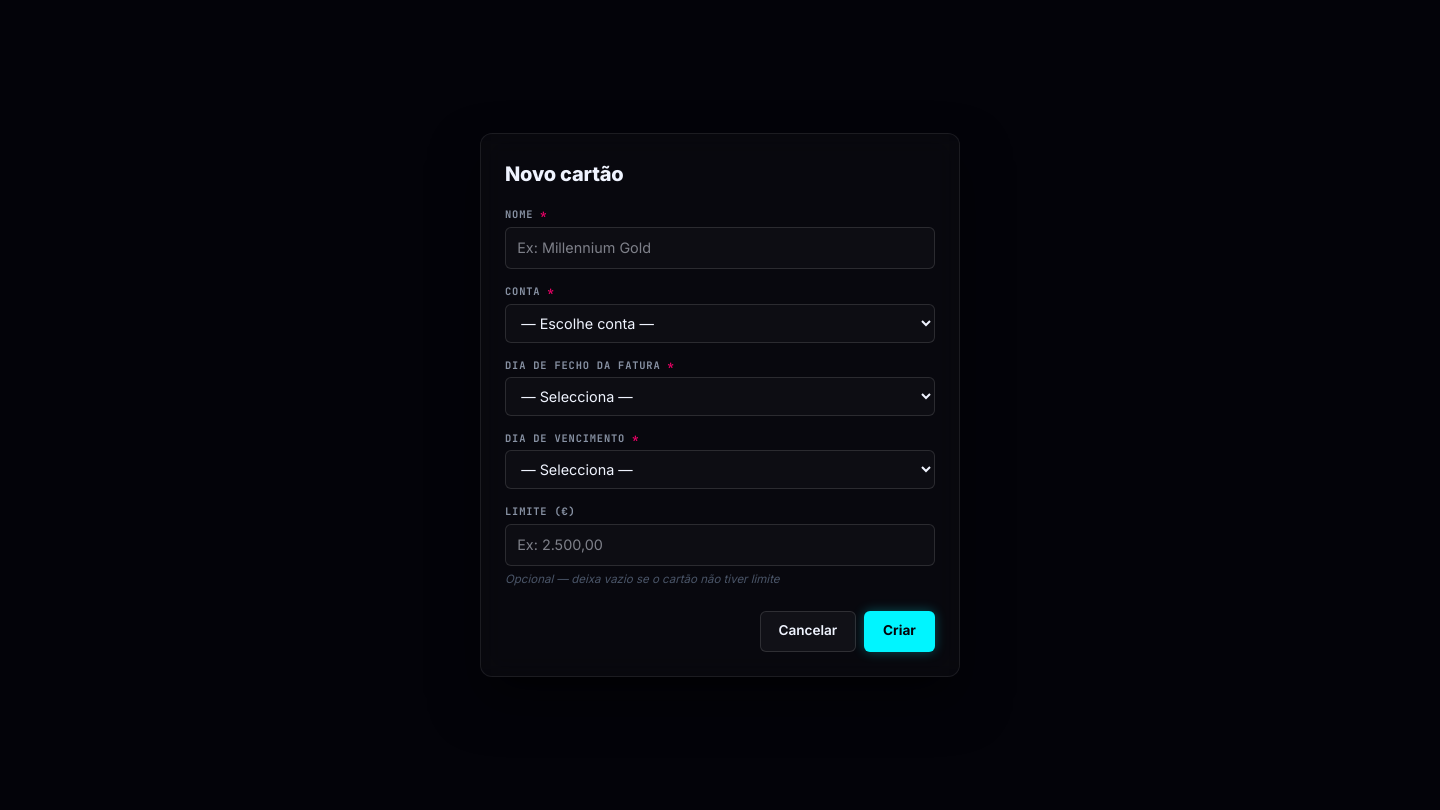
Test: CardFormModal (Story 9.1b / cobertura finanças) › caminho de erro 1 — selecções obrigatórias em falta (conta/fecho/vencimento)
The width and height of the screenshot is (1440, 810).
Click the button "Criar" at (899, 631), box x1=864 y1=611 x2=935 y2=652
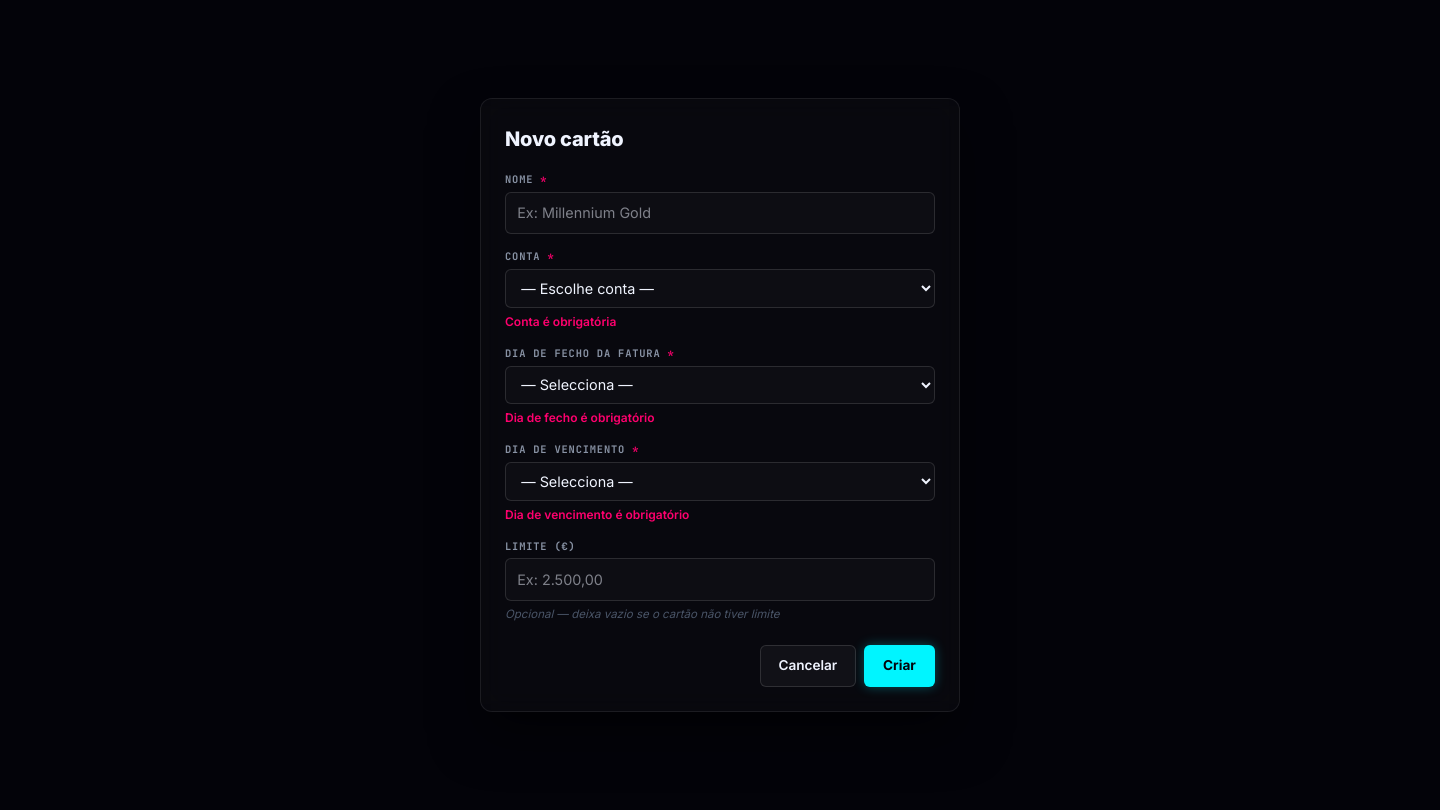
Expected: the text "Conta é obrigatória" is shown, x1=505 y1=314 x2=616 y2=329
Expected: the text "Dia de fecho é obrigatório" is shown, x1=505 y1=410 x2=654 y2=425
Expected: the text "Dia de vencimento é obrigatório" is shown, x1=505 y1=507 x2=689 y2=522
